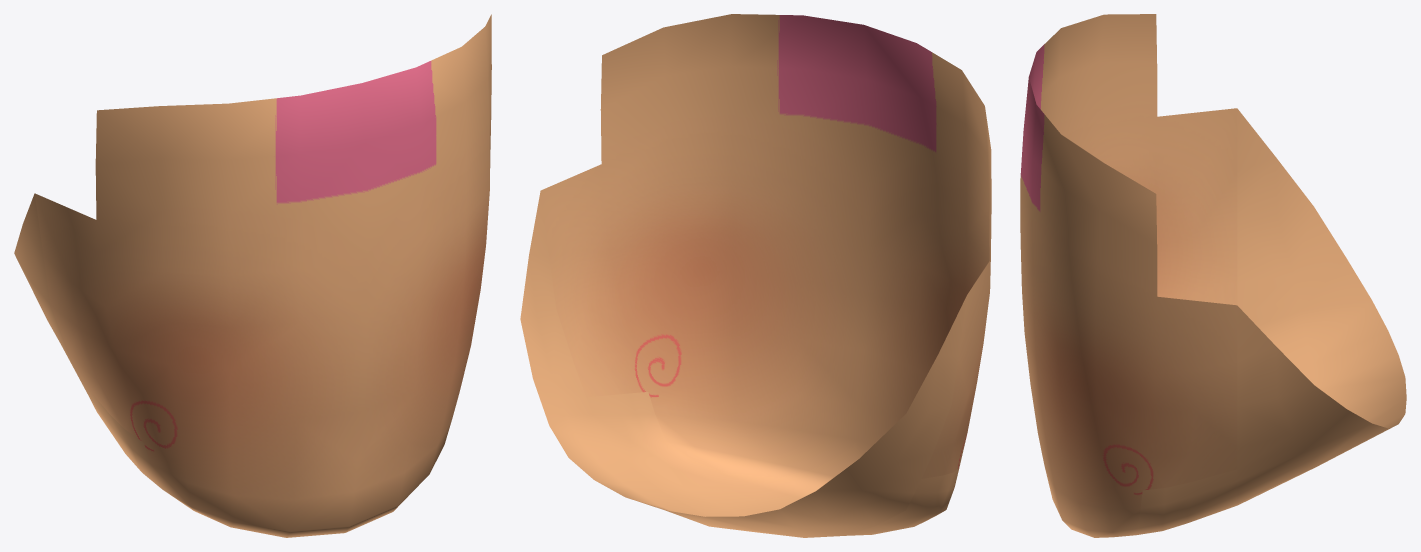
The model's file is Faceline_11.glb.
3 views of the same model, side by side, from view 1: azimuth 30°, elevation 25°; view 2: azimuth 150°, elevation 25°; view 3: azimuth 270°, elevation 25° (orthographic). The views are drawn at different scales.
Visible parts, largest first — view 1: Head11; view 2: Head11; view 3: Head11.
Part boxes in pixels (x1,y1,x2,y2): Head11: (14, 14, 491, 537); Head11: (520, 14, 991, 537); Head11: (1020, 14, 1406, 537).
Size of the model in its own units: 52.6 by 53.78 by 43.57.
Materials: 1 (1 with a texture image).
